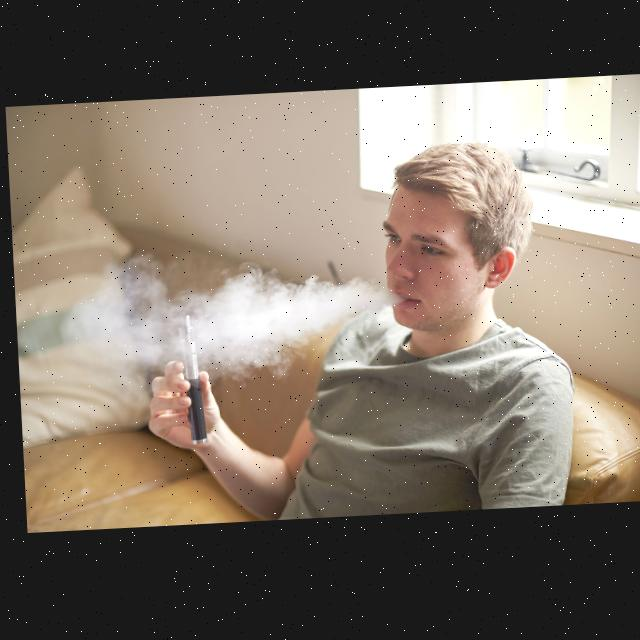vape: (175, 317, 202, 447)
